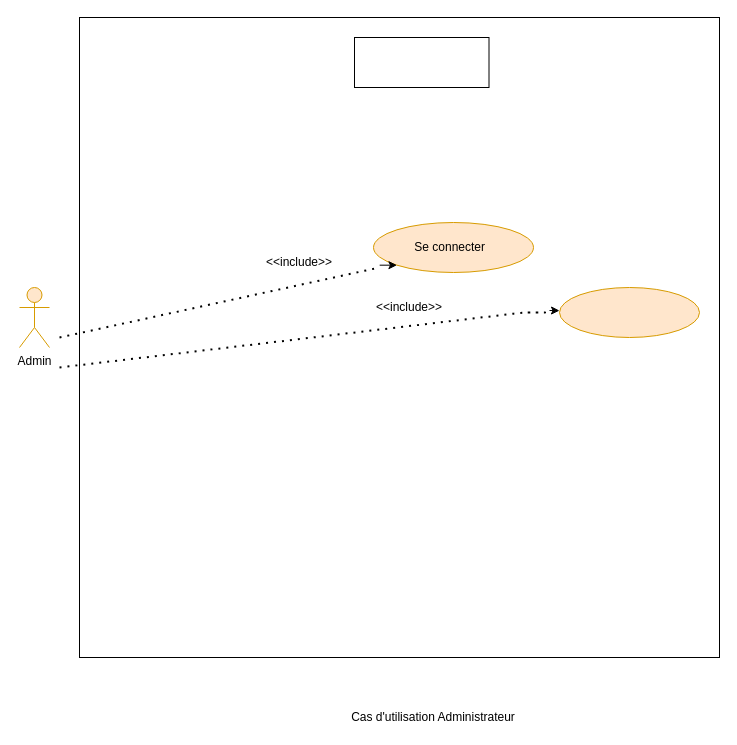
Some shapes in this 737 by 745 pixel diagram are drawn without their labels. The shapes that lost their labels are listed below. From the top down, each one's box as (x1, y1, x2, y2) in pixels, then its label:
(354, 36, 489, 88): App TRT-Conseil
(558, 286, 700, 338): Créer un consultant
